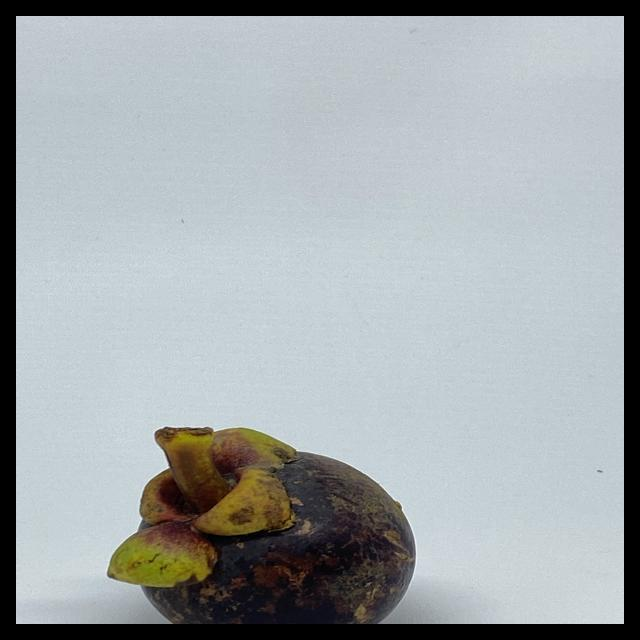mangosteen: (89, 386, 433, 624)
